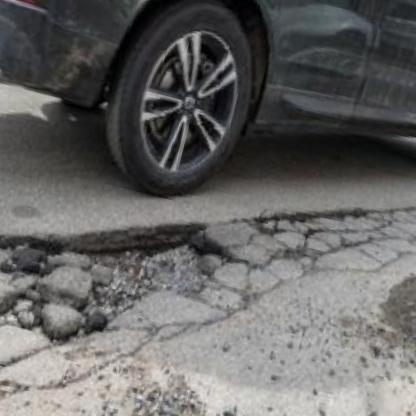pothole: (13, 184, 235, 371)
